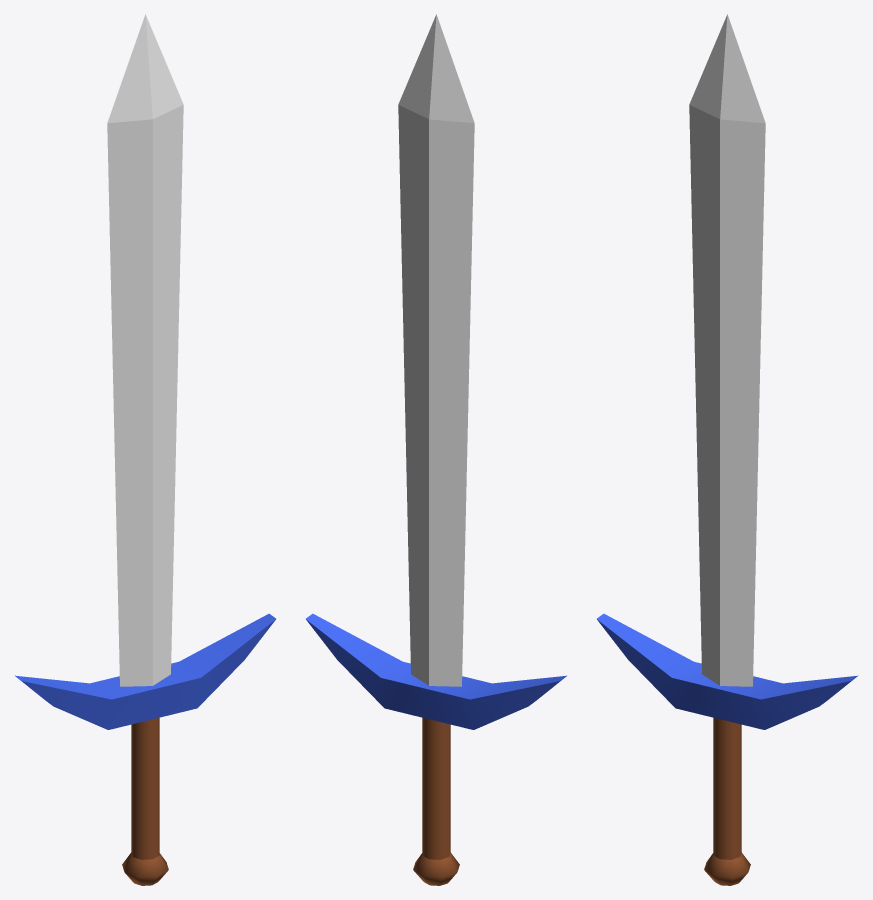
File: sword.glb
The picture shows the model from 3 angles, left to right: view 1: azimuth 30°, elevation 25°; view 2: azimuth 150°, elevation 25°; view 3: azimuth 330°, elevation 25°; orthographic projection.
Parts seen in each view (by area): view 1: Cube; view 2: Cube; view 3: Cube.
Part boxes in pixels (x1,y1,x2,y2): Cube: (15, 14, 275, 885); Cube: (306, 14, 566, 885); Cube: (597, 14, 857, 885).
Bounding box in the file's own units: 0.4 × 1.3 × 0.066.
Materials: 1 (1 with a texture image).
